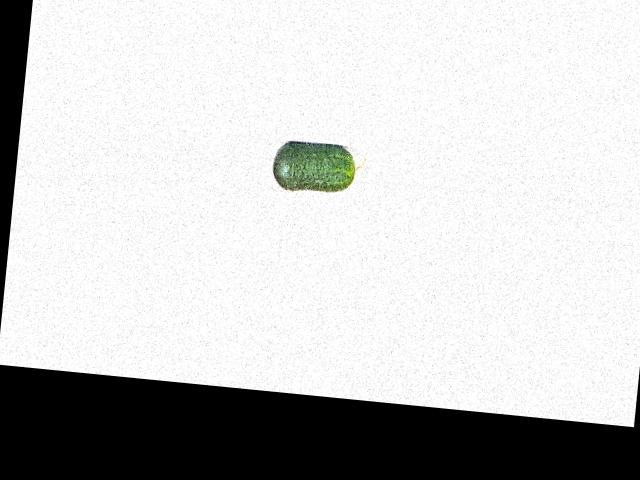cucumber: (271, 139, 366, 196)
